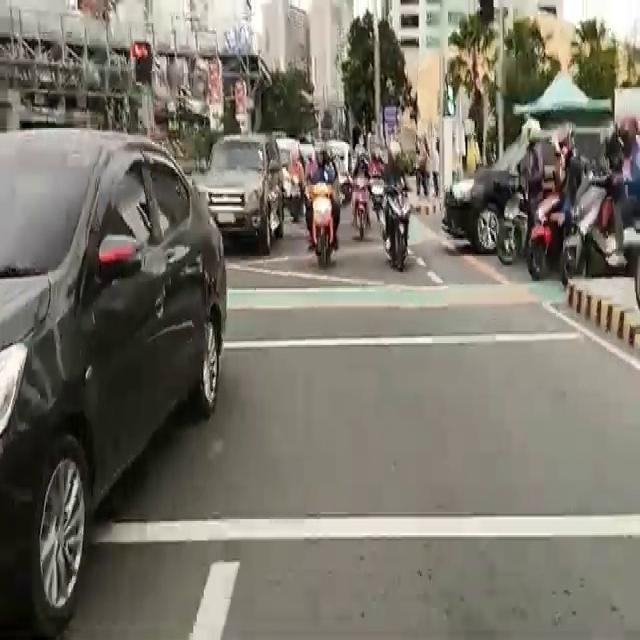car: (0, 133, 227, 568), (202, 132, 276, 249)
motorcycle: (573, 119, 640, 293), (531, 132, 573, 278), (380, 147, 414, 273), (305, 158, 337, 276), (350, 145, 370, 243)
